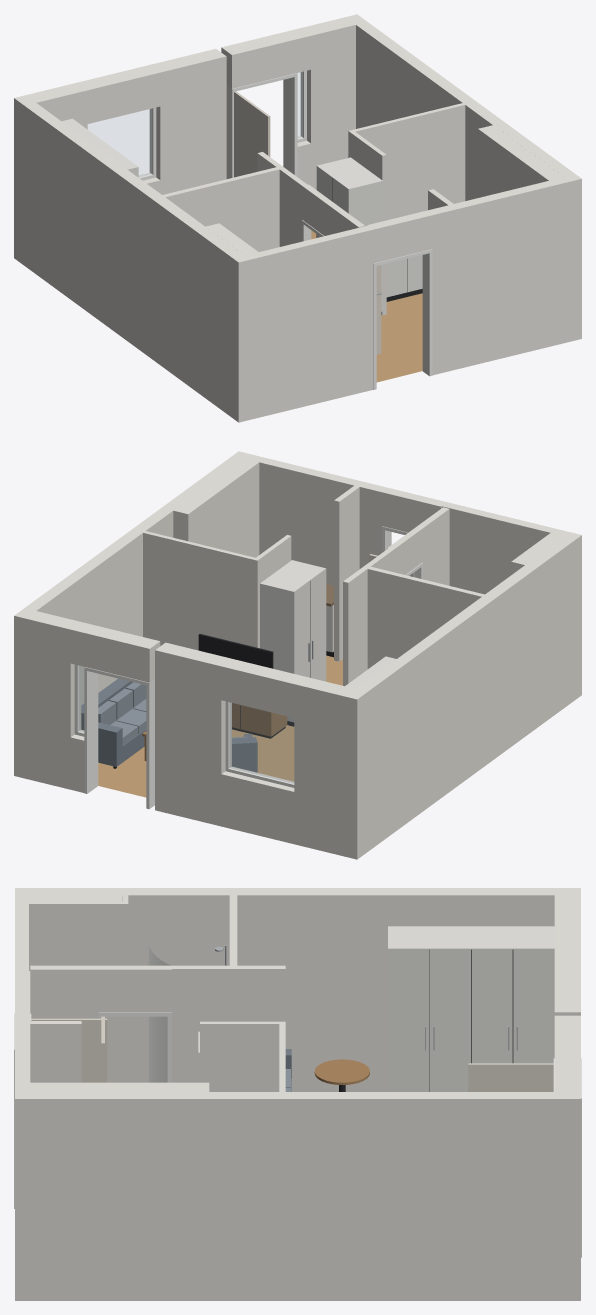
The picture shows the model from 3 angles, top to bottom: view 1: azimuth 30°, elevation 25°; view 2: azimuth 150°, elevation 25°; view 3: azimuth 270°, elevation 25°; orthographic projection. The views are drawn at different scales.
Parts seen in each view (by area): view 1: w10, w6, w4, wyposazenie-sciana, w11, w5, w7, w8, w2, wyposazenie-rama, wyposazenie-bialy, r1 (+8 smaller); view 2: w10, wyposazenie-sciana, w5, w7, w11, w6, w1, w8, wyposazenie-bialy, w2, w4, w15 (+12 smaller); view 3: w11, w10, wyposazenie-bialy, w16, wyposazenie-sciana, w13, w14, wyposazenie-skrzydlo, w17, w18, w12, wyposazenie-szklo (+12 smaller).
Boxes of the visible parts, x1=… form: w10: x1=14, y1=95, x2=250, y2=422; w6: x1=426, y1=177, x2=571, y2=375; w4: x1=244, y1=225, x2=373, y2=419; wyposazenie-sciana: x1=77, y1=28, x2=432, y2=263; w11: x1=347, y1=14, x2=581, y2=341; w5: x1=149, y1=49, x2=226, y2=194; w7: x1=348, y1=103, x2=465, y2=220; w8: x1=300, y1=17, x2=356, y2=189; w2: x1=161, y1=166, x2=284, y2=251; wyposazenie-rama: x1=138, y1=70, x2=432, y2=389; wyposazenie-bialy: x1=62, y1=118, x2=422, y2=311; r1: x1=311, y1=230, x2=422, y2=382; w10: x1=346, y1=532, x2=581, y2=859; wyposazenie-sciana: x1=70, y1=488, x2=446, y2=843; w5: x1=155, y1=642, x2=231, y2=826; w7: x1=142, y1=531, x2=259, y2=650; w11: x1=14, y1=451, x2=249, y2=778; w6: x1=244, y1=454, x2=387, y2=585; w1: x1=294, y1=676, x2=356, y2=856; w8: x1=24, y1=610, x2=81, y2=789; wyposazenie-bialy: x1=260, y1=560, x2=396, y2=722; w2: x1=364, y1=565, x2=485, y2=668; w4: x1=441, y1=502, x2=570, y2=594; w15: x1=183, y1=460, x2=259, y2=557; w11: x1=15, y1=1092, x2=580, y2=1300; w10: x1=15, y1=888, x2=580, y2=1091; wyposazenie-bialy: x1=198, y1=926, x2=554, y2=1091; w16: x1=28, y1=901, x2=128, y2=1082; wyposazenie-sciana: x1=15, y1=927, x2=580, y2=1064; w13: x1=200, y1=1021, x2=280, y2=1091; w14: x1=172, y1=965, x2=229, y2=1082; wyposazenie-skrzydlo: x1=31, y1=1016, x2=553, y2=1091; w17: x1=30, y1=965, x2=98, y2=1018; w18: x1=30, y1=1021, x2=81, y2=1082; w12: x1=237, y1=965, x2=285, y2=1021; wyposazenie-szklo: x1=149, y1=946, x2=170, y2=1082.
Bounding box in the file's own units: 5.83 × 2.6 × 6.63.
